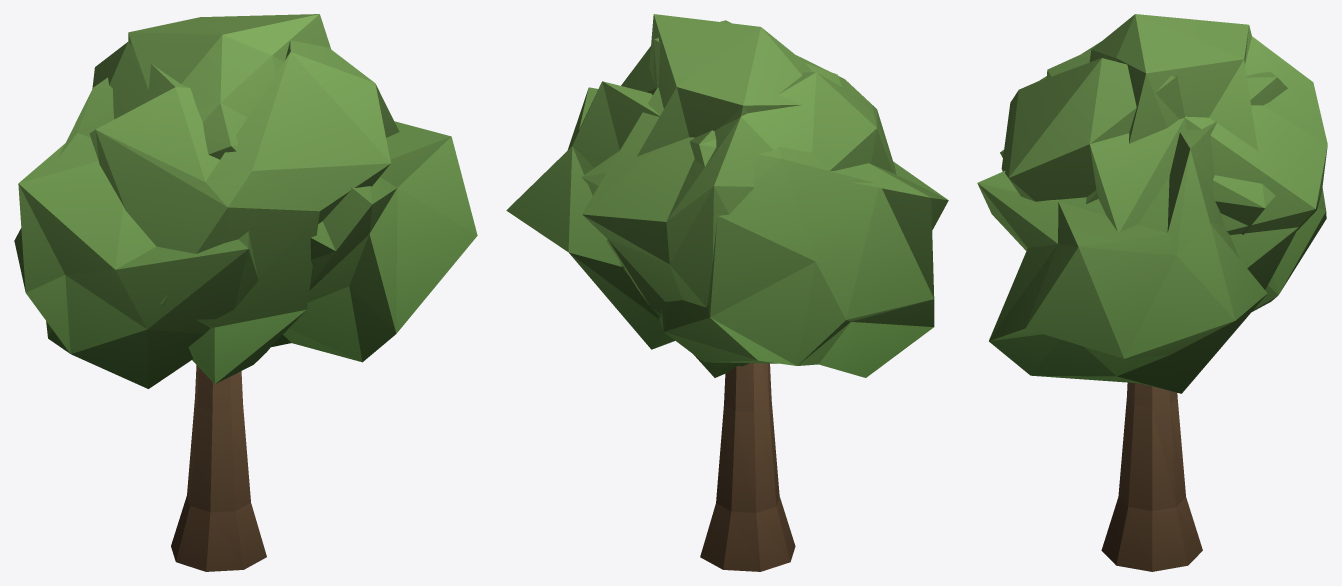
The model's file is tree-oak-01.glb.
3 views of the same model, side by side, from view 1: azimuth 30°, elevation 25°; view 2: azimuth 150°, elevation 25°; view 3: azimuth 270°, elevation 25° (orthographic). The views are drawn at different scales.
Parts seen in each view (by area): view 1: tree_oak_01; view 2: tree_oak_01; view 3: tree_oak_01.
Boxes of the visible parts, box(x1,y1,x2,y2) form: tree_oak_01: box(14, 14, 477, 571); tree_oak_01: box(506, 14, 948, 571); tree_oak_01: box(977, 14, 1327, 571).
Bounding box in the file's own units: 3.52 × 4.35 × 2.59.
